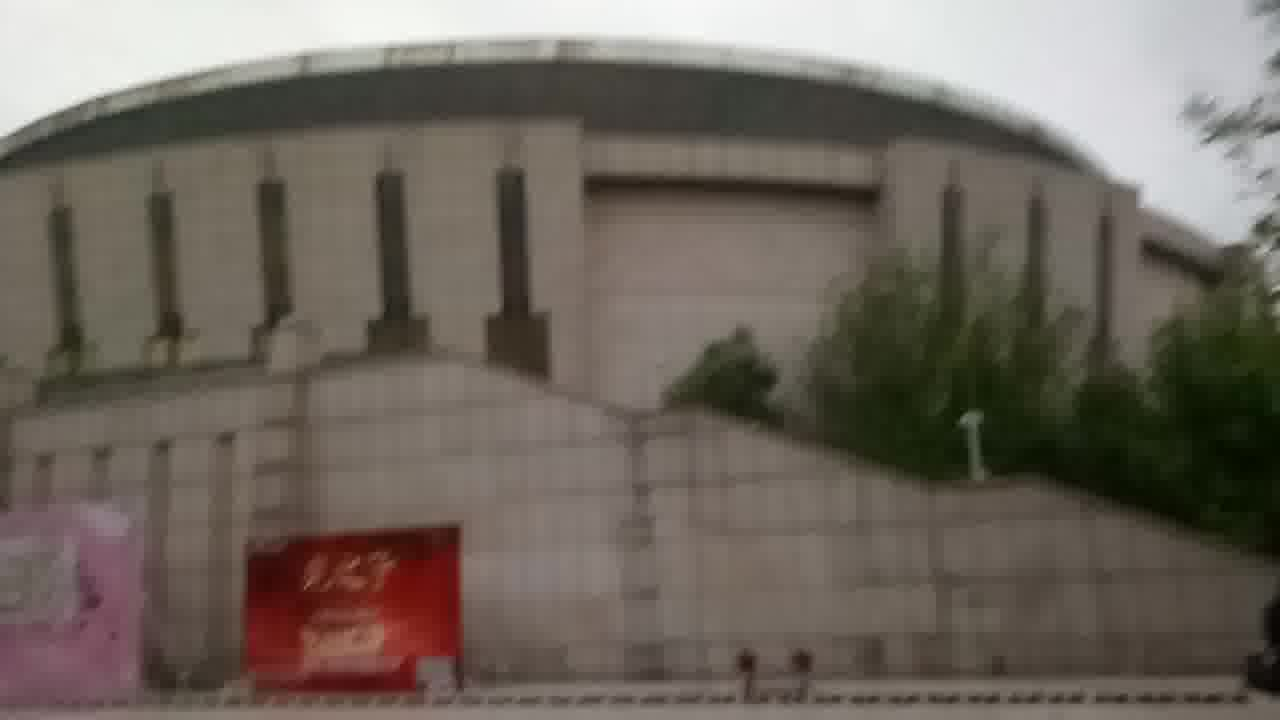zhongtiww: (1, 27, 1280, 699)
